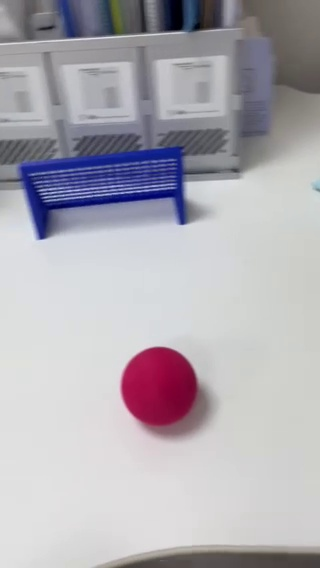goal: (18, 149, 192, 244)
redball: (121, 347, 198, 425)
